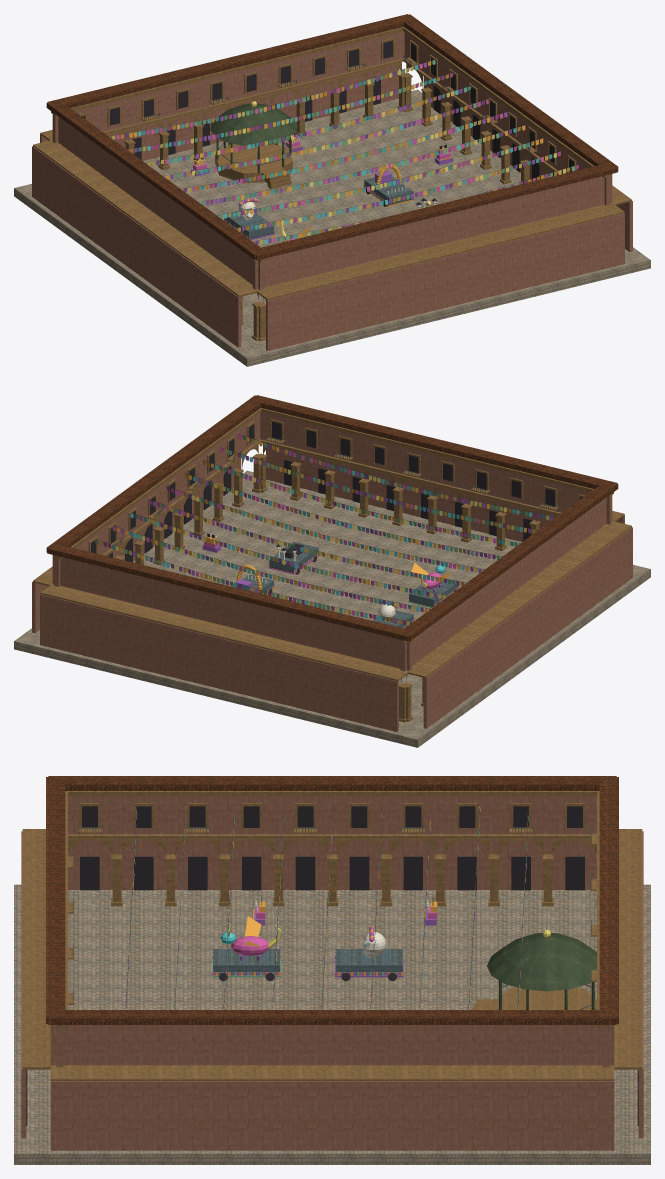
The model's file is plaza_catrina.glb.
The picture shows the model from 3 angles, top to bottom: view 1: azimuth 30°, elevation 25°; view 2: azimuth 150°, elevation 25°; view 3: azimuth 270°, elevation 25°; orthographic projection. The views are drawn at different scales.
Visible parts, largest first — view 1: Portales, Piso, PapelPicado, Kiosco, Carros, Ofrendas; view 2: Portales, Piso, PapelPicado, Carros; view 3: Portales, Piso, Kiosco, Carros, PapelPicado, Ofrendas.
Boxes of the visible parts, left/top/right/bottom form: Portales: left=32, top=14, right=632, bottom=350; Piso: left=14, top=89, right=650, bottom=366; PapelPicado: left=109, top=59, right=578, bottom=244; Kiosco: left=210, top=99, right=297, bottom=189; Carros: left=224, top=164, right=437, bottom=242; Ofrendas: left=191, top=133, right=453, bottom=176; Portales: left=32, top=395, right=632, bottom=731; Piso: left=14, top=470, right=650, bottom=747; PapelPicado: left=95, top=434, right=555, bottom=625; Carros: left=232, top=542, right=458, bottom=628; Portales: left=21, top=776, right=643, bottom=1150; Piso: left=14, top=884, right=650, bottom=1164; Kiosco: left=472, top=926, right=596, bottom=1009; Carros: left=212, top=916, right=403, bottom=981; PapelPicado: left=125, top=804, right=529, bottom=1009; Ofrendas: left=252, top=897, right=437, bottom=925.
Size of what is drawn, in the model's own units: 52 by 12 by 52.
Materials: 17 (6 with a texture image).
